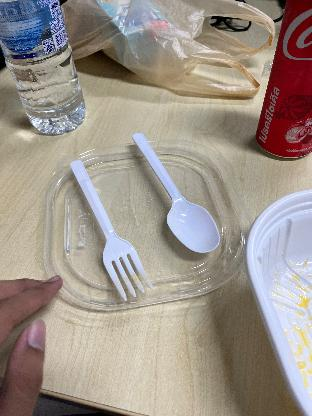Others: (63, 157, 161, 303), (122, 127, 224, 260)
